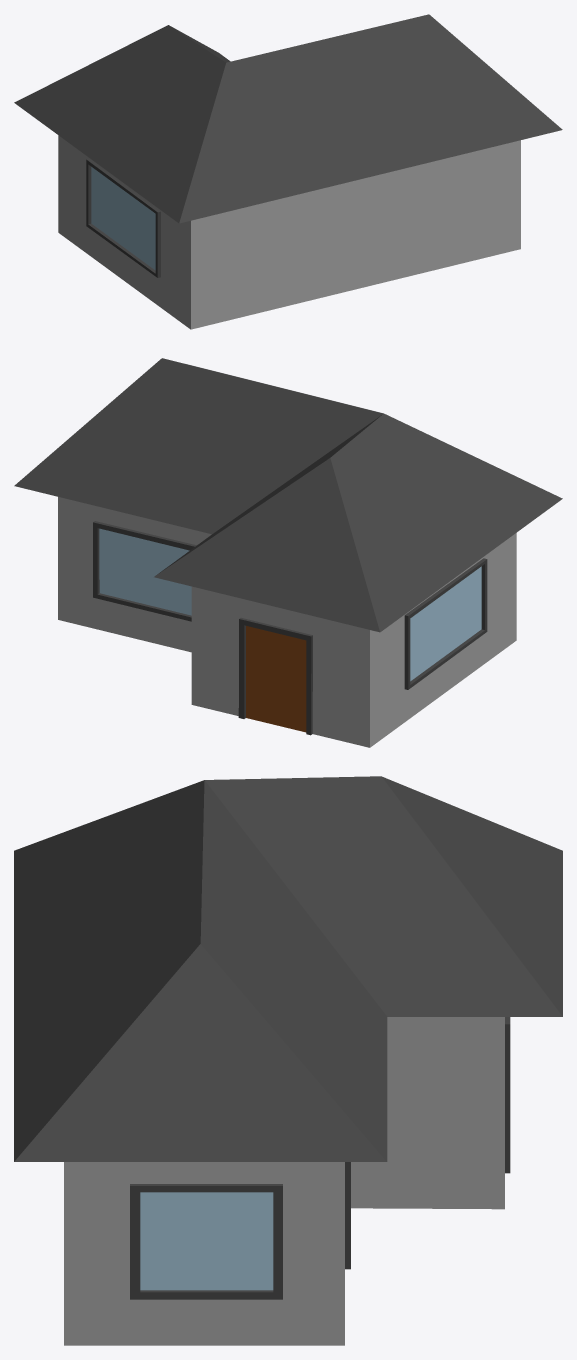
The model's file is greyscale corner building.fbx.
The picture shows the model from 3 angles, top to bottom: view 1: azimuth 30°, elevation 25°; view 2: azimuth 150°, elevation 25°; view 3: azimuth 270°, elevation 25°; orthographic projection. The views are drawn at different scales.
Parts seen in each view (by area): view 1: Cube.001; view 2: Cube.001; view 3: Cube.001.
Boxes of the visible parts, bbox=[...] form: Cube.001: bbox=[14, 14, 562, 329]; Cube.001: bbox=[14, 358, 562, 747]; Cube.001: bbox=[14, 776, 562, 1345].
Size of the model in its own units: 6136 by 3323 by 4573.
